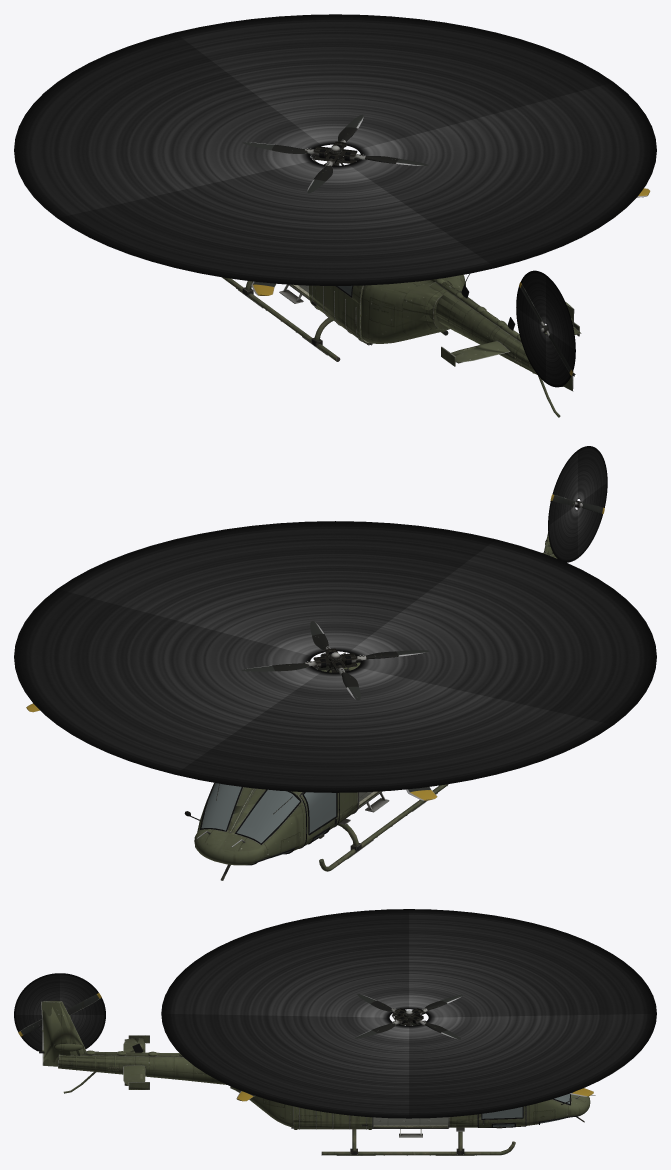
Rendered from heli.glb.
The picture shows the model from 3 angles, top to bottom: view 1: azimuth 30°, elevation 25°; view 2: azimuth 150°, elevation 25°; view 3: azimuth 270°, elevation 25°; orthographic projection. The views are drawn at different scales.
Visible parts, largest first — view 1: RotorDisc, TailDisc, HeliLOD, Body_paint, Body_top, Blades_mech, DoorL_paint, Body_mech, MainRotor_mech; view 2: RotorDisc, Body_paint, TailDisc, Body_glass, HeliLOD, Blades_mech, Body_mech, MainRotor_mech; view 3: RotorDisc, HeliLOD, Body_top, TailDisc, Body_paint, Body_mech, DoorR_paint, Blades_mech, Body_cabin, MainRotor_mech, TailBlades_mech, Body_glass.
Boxes of the visible parts, left/top/right/bottom form: RotorDisc: left=14, top=14, right=656, bottom=285; TailDisc: left=516, top=270, right=575, bottom=387; HeliLOD: left=222, top=162, right=581, bottom=417; Body_paint: left=289, top=162, right=465, bottom=343; Body_top: left=429, top=278, right=579, bottom=391; Blades_mech: left=242, top=114, right=650, bottom=295; DoorL_paint: left=309, top=285, right=369, bottom=344; Body_mech: left=222, top=273, right=575, bottom=417; MainRotor_mech: left=305, top=139, right=365, bottom=166; RotorDisc: left=14, top=521, right=656, bottom=792; Body_paint: left=194, top=783, right=381, bottom=865; TailDisc: left=548, top=446, right=607, bottom=562; Body_glass: left=202, top=783, right=336, bottom=857; HeliLOD: left=187, top=536, right=555, bottom=880; Blades_mech: left=26, top=621, right=437, bottom=800; Body_mech: left=185, top=653, right=448, bottom=880; MainRotor_mech: left=305, top=646, right=366, bottom=674; RotorDisc: left=161, top=909, right=656, bottom=1118; HeliLOD: left=42, top=1001, right=590, bottom=1155; Body_top: left=41, top=1001, right=226, bottom=1089; TailDisc: left=14, top=973, right=105, bottom=1051; Body_paint: left=230, top=1086, right=590, bottom=1128; Body_mech: left=39, top=1043, right=595, bottom=1155; DoorR_paint: left=293, top=1106, right=372, bottom=1129; Blades_mech: left=236, top=994, right=593, bottom=1101; Body_cabin: left=373, top=1117, right=447, bottom=1126; MainRotor_mech: left=391, top=1008, right=427, bottom=1025; TailBlades_mech: left=18, top=993, right=101, bottom=1036; Body_glass: left=482, top=1093, right=569, bottom=1126.
Size of the model in its own units: 14 by 4.86 by 18.16.
Materials: 13 (6 with a texture image).
